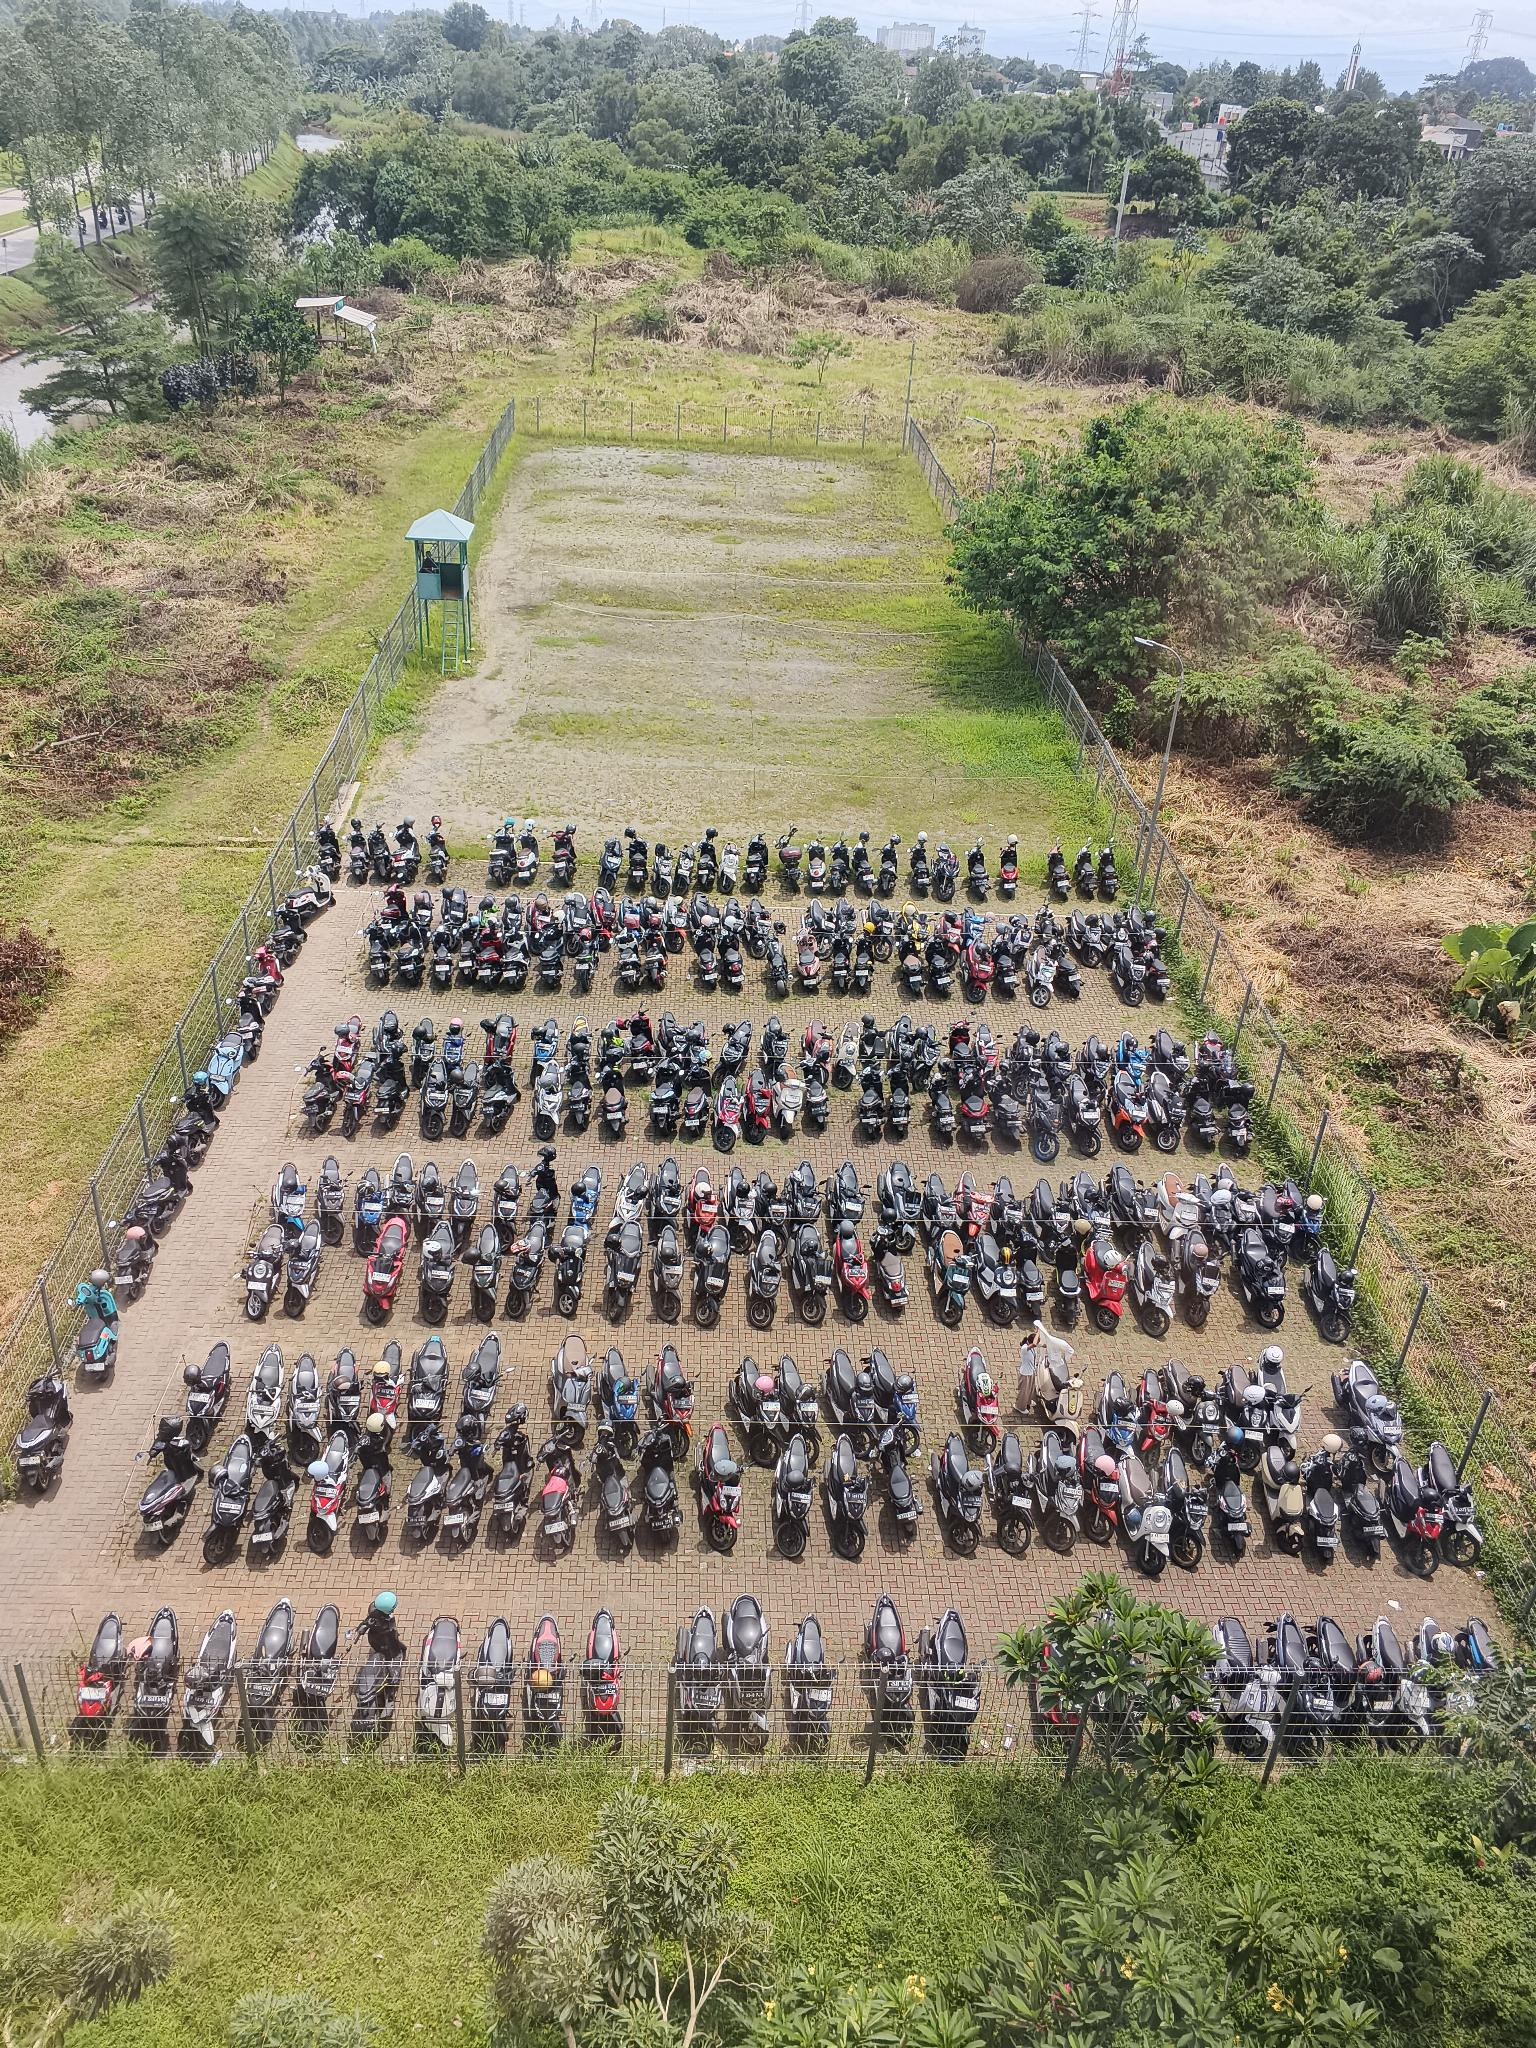motor: (1307, 1613, 1397, 1755), (915, 1600, 989, 1767), (1355, 1614, 1438, 1750), (1263, 1609, 1339, 1756), (1202, 1614, 1276, 1758), (857, 1590, 920, 1748), (665, 1605, 728, 1761), (345, 1593, 405, 1756), (1409, 1614, 1481, 1748), (779, 1613, 845, 1758), (579, 1605, 636, 1766), (1329, 1355, 1409, 1469), (720, 1588, 774, 1748), (1113, 1447, 1179, 1577), (242, 1595, 295, 1753), (186, 1605, 237, 1763), (631, 1413, 689, 1551), (1423, 1440, 1486, 1567), (523, 1611, 576, 1761), (1336, 1424, 1394, 1561), (692, 1421, 750, 1556), (984, 1426, 1041, 1563), (721, 1353, 789, 1466), (928, 1432, 989, 1556), (1384, 1450, 1446, 1574), (470, 1613, 520, 1764), (584, 1424, 644, 1550), (140, 1413, 195, 1546), (415, 1611, 463, 1761), (1254, 1342, 1315, 1459), (534, 1422, 589, 1553), (820, 1430, 874, 1561), (297, 1595, 342, 1753), (65, 1269, 126, 1384), (542, 1332, 603, 1447), (18, 1367, 74, 1492), (352, 1411, 403, 1546), (300, 1426, 355, 1551), (1158, 1440, 1213, 1566), (490, 1403, 541, 1540), (1165, 1356, 1225, 1471), (870, 1427, 926, 1546), (245, 1429, 298, 1555), (868, 1340, 925, 1458), (77, 1611, 126, 1748), (1029, 1429, 1083, 1553), (207, 1430, 255, 1566), (134, 1606, 179, 1751), (1254, 1437, 1309, 1556), (823, 1345, 879, 1459), (1200, 1440, 1255, 1558), (952, 1345, 1008, 1458), (774, 1350, 829, 1466), (1302, 1434, 1350, 1564), (1071, 1421, 1121, 1545), (445, 1416, 494, 1543), (649, 1342, 699, 1464), (597, 1340, 647, 1461), (402, 1422, 452, 1543), (771, 1430, 818, 1559), (1231, 1227, 1289, 1330), (237, 1340, 286, 1461), (1171, 1227, 1226, 1334), (181, 1337, 232, 1450), (1302, 1245, 1360, 1345), (460, 1330, 510, 1445), (1221, 1353, 1268, 1471), (1079, 1238, 1134, 1338), (361, 1213, 410, 1326), (921, 1229, 976, 1327), (407, 1334, 452, 1453), (970, 1229, 1023, 1329), (106, 1201, 158, 1301), (828, 1218, 876, 1322), (787, 1218, 833, 1326), (415, 1218, 460, 1324), (365, 1335, 408, 1445), (1131, 1240, 1179, 1338), (1091, 1367, 1141, 1463), (602, 1218, 647, 1322), (324, 1348, 366, 1461), (1108, 1159, 1158, 1253), (742, 1226, 787, 1329), (1137, 1366, 1183, 1469), (287, 1347, 326, 1464), (868, 1222, 915, 1319), (140, 1148, 192, 1235), (873, 1158, 921, 1250), (244, 1222, 286, 1327), (171, 1074, 219, 1164), (1008, 1229, 1054, 1326), (694, 1222, 734, 1327), (647, 1224, 689, 1324), (1155, 1166, 1202, 1255), (1047, 1234, 1089, 1330), (466, 1218, 503, 1326), (1105, 1068, 1150, 1155), (486, 1155, 524, 1256), (1284, 1172, 1329, 1259), (1191, 1169, 1234, 1258), (1062, 1072, 1107, 1158), (826, 1159, 871, 1245), (921, 1058, 963, 1150), (552, 1222, 592, 1316), (287, 1218, 324, 1319), (510, 1219, 547, 1319), (1217, 1163, 1265, 1238), (298, 1047, 340, 1134), (987, 1059, 1029, 1147), (1029, 1176, 1073, 1259), (315, 1150, 352, 1248), (594, 1048, 632, 1140), (1262, 1176, 1300, 1268), (1068, 1164, 1115, 1240), (526, 1145, 563, 1240), (374, 1042, 413, 1132), (682, 1158, 721, 1248), (1026, 1076, 1066, 1161), (352, 1161, 387, 1258), (1147, 1069, 1187, 1153), (271, 1158, 311, 1242), (755, 1161, 791, 1256), (645, 1048, 684, 1135), (955, 1163, 994, 1250), (449, 1155, 482, 1253), (958, 1056, 995, 1145), (286, 863, 337, 926), (566, 1159, 608, 1237), (789, 1159, 826, 1247), (205, 1029, 244, 1111), (1223, 1076, 1262, 1158), (481, 1055, 523, 1130), (854, 1056, 891, 1142), (563, 1043, 599, 1132), (884, 1053, 920, 1142), (1008, 1019, 1046, 1103), (797, 1009, 836, 1089), (1184, 1072, 1223, 1151), (650, 1155, 684, 1245), (715, 1009, 753, 1087), (795, 1053, 833, 1134), (992, 1171, 1029, 1251), (726, 1158, 757, 1255), (1149, 1022, 1192, 1090), (613, 1159, 647, 1247), (920, 1164, 957, 1243), (1044, 1021, 1079, 1103), (1078, 1022, 1113, 1105), (529, 1058, 565, 1140), (624, 998, 658, 1084), (771, 1056, 805, 1142), (1455, 1614, 1504, 1674), (684, 1050, 715, 1142), (387, 1150, 416, 1245), (741, 1058, 773, 1143), (390, 914, 429, 985), (1197, 1024, 1241, 1087), (449, 1056, 482, 1137), (419, 1156, 449, 1248), (757, 1009, 795, 1077), (479, 1011, 515, 1084), (542, 819, 579, 889), (713, 1068, 744, 1151), (344, 1059, 376, 1138), (715, 926, 750, 997), (248, 943, 284, 1014), (231, 990, 266, 1061), (360, 914, 394, 989), (760, 926, 794, 998), (369, 1005, 407, 1071), (408, 1013, 440, 1089), (421, 1056, 449, 1145), (1050, 935, 1087, 1000), (925, 929, 957, 1001), (536, 921, 568, 993), (529, 1014, 561, 1087), (687, 924, 721, 992), (611, 924, 645, 992), (500, 922, 534, 990), (657, 1001, 691, 1069), (1115, 1024, 1149, 1092), (945, 1013, 978, 1084), (641, 919, 671, 993), (837, 1011, 865, 1093), (486, 816, 518, 885), (1139, 939, 1175, 1001), (963, 934, 994, 1006), (897, 927, 928, 1000), (1068, 908, 1104, 969), (991, 929, 1021, 1000), (565, 1014, 595, 1085), (889, 1008, 920, 1079), (860, 898, 894, 961), (1115, 947, 1149, 1009), (899, 900, 934, 959), (975, 1014, 1004, 1087), (805, 895, 837, 959), (271, 900, 303, 964), (476, 921, 505, 992), (1028, 940, 1058, 1006), (424, 814, 453, 884), (862, 1011, 892, 1076), (392, 816, 421, 884), (597, 1016, 626, 1084), (429, 921, 457, 992), (439, 885, 468, 950), (591, 885, 618, 953), (518, 814, 542, 890), (689, 890, 720, 950), (778, 826, 805, 890), (936, 903, 963, 968), (334, 1011, 361, 1076), (854, 926, 878, 998), (934, 834, 960, 901), (797, 927, 824, 990), (829, 924, 854, 995), (624, 826, 650, 892), (965, 835, 991, 901), (1044, 845, 1073, 903), (597, 832, 624, 893), (687, 1014, 715, 1076), (345, 819, 371, 884), (455, 916, 481, 980), (920, 1019, 944, 1087), (313, 822, 340, 882), (578, 924, 602, 990), (999, 834, 1021, 903), (747, 895, 771, 959), (745, 832, 770, 895), (563, 890, 587, 953), (653, 839, 678, 900), (852, 834, 876, 895), (663, 893, 687, 955), (444, 1018, 468, 1079), (721, 893, 747, 950), (1126, 906, 1157, 953), (878, 832, 900, 895), (1076, 842, 1099, 903), (910, 832, 931, 897), (369, 822, 392, 882), (1099, 842, 1121, 900), (1031, 906, 1063, 947), (828, 839, 852, 892), (642, 889, 663, 950), (676, 839, 697, 897), (697, 832, 718, 890), (807, 835, 828, 892), (965, 905, 991, 950), (531, 892, 550, 951), (623, 890, 642, 950), (478, 892, 499, 943), (720, 840, 739, 895), (382, 882, 407, 926), (1102, 906, 1128, 945), (415, 887, 436, 930), (505, 892, 524, 935)
